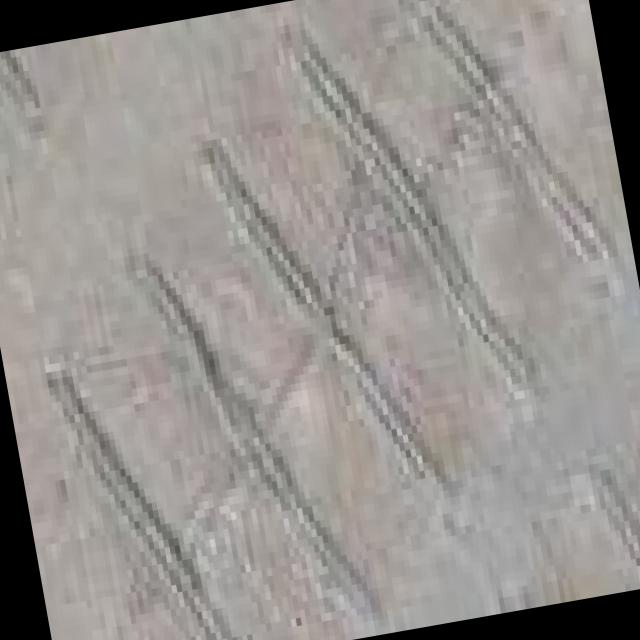gray stitch: (18, 116, 385, 640), (276, 0, 632, 417)
